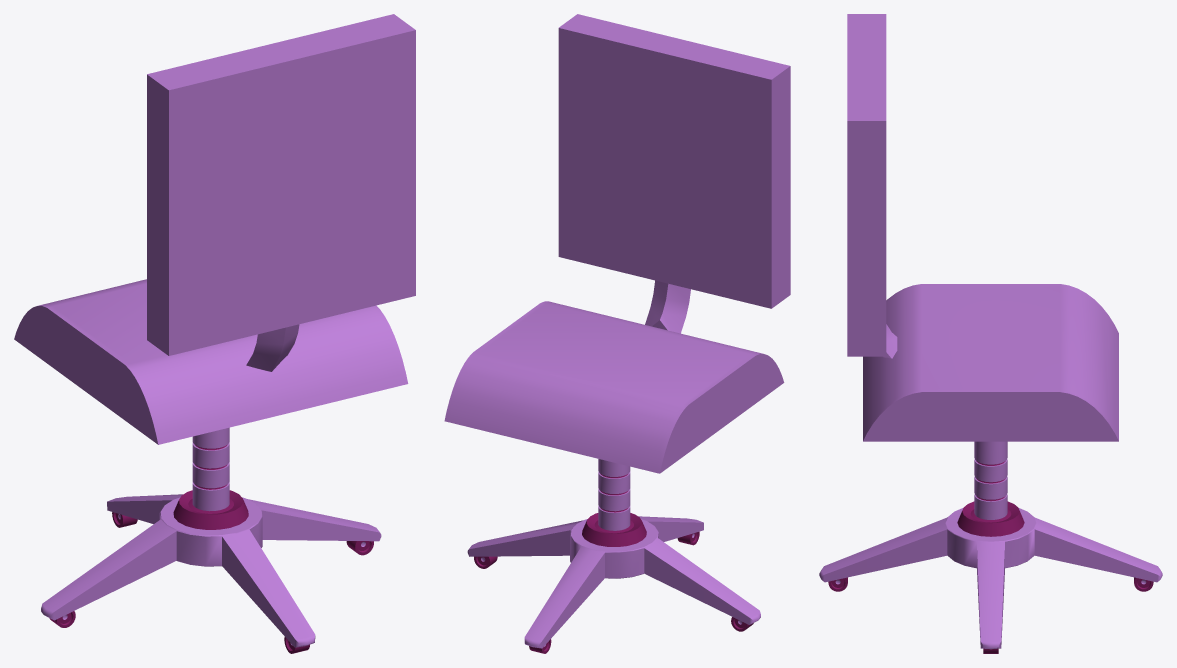
Rendered from chair.glb.
The picture shows the model from 3 angles, left to right: view 1: azimuth 30°, elevation 25°; view 2: azimuth 150°, elevation 25°; view 3: azimuth 270°, elevation 25°; orthographic projection. The views are drawn at different scales.
Parts seen in each view (by area): view 1: chair; view 2: chair; view 3: chair.
Part boxes in pixels (<box>): chair: <box>14,14,415,653</box>; chair: <box>444,14,790,653</box>; chair: <box>819,14,1162,653</box>.
Bounding box in the file's own units: 0.5944 × 0.9959 × 0.5944.
